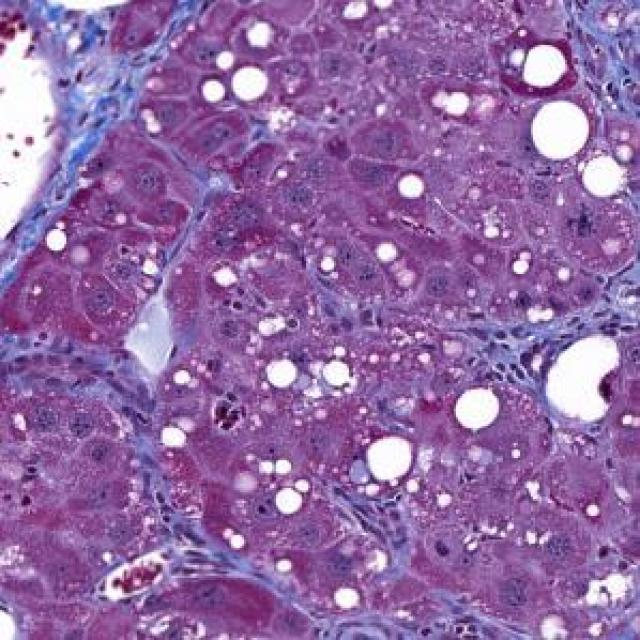fibrosis: (11, 7, 160, 202), (94, 360, 206, 582), (426, 306, 578, 400)
